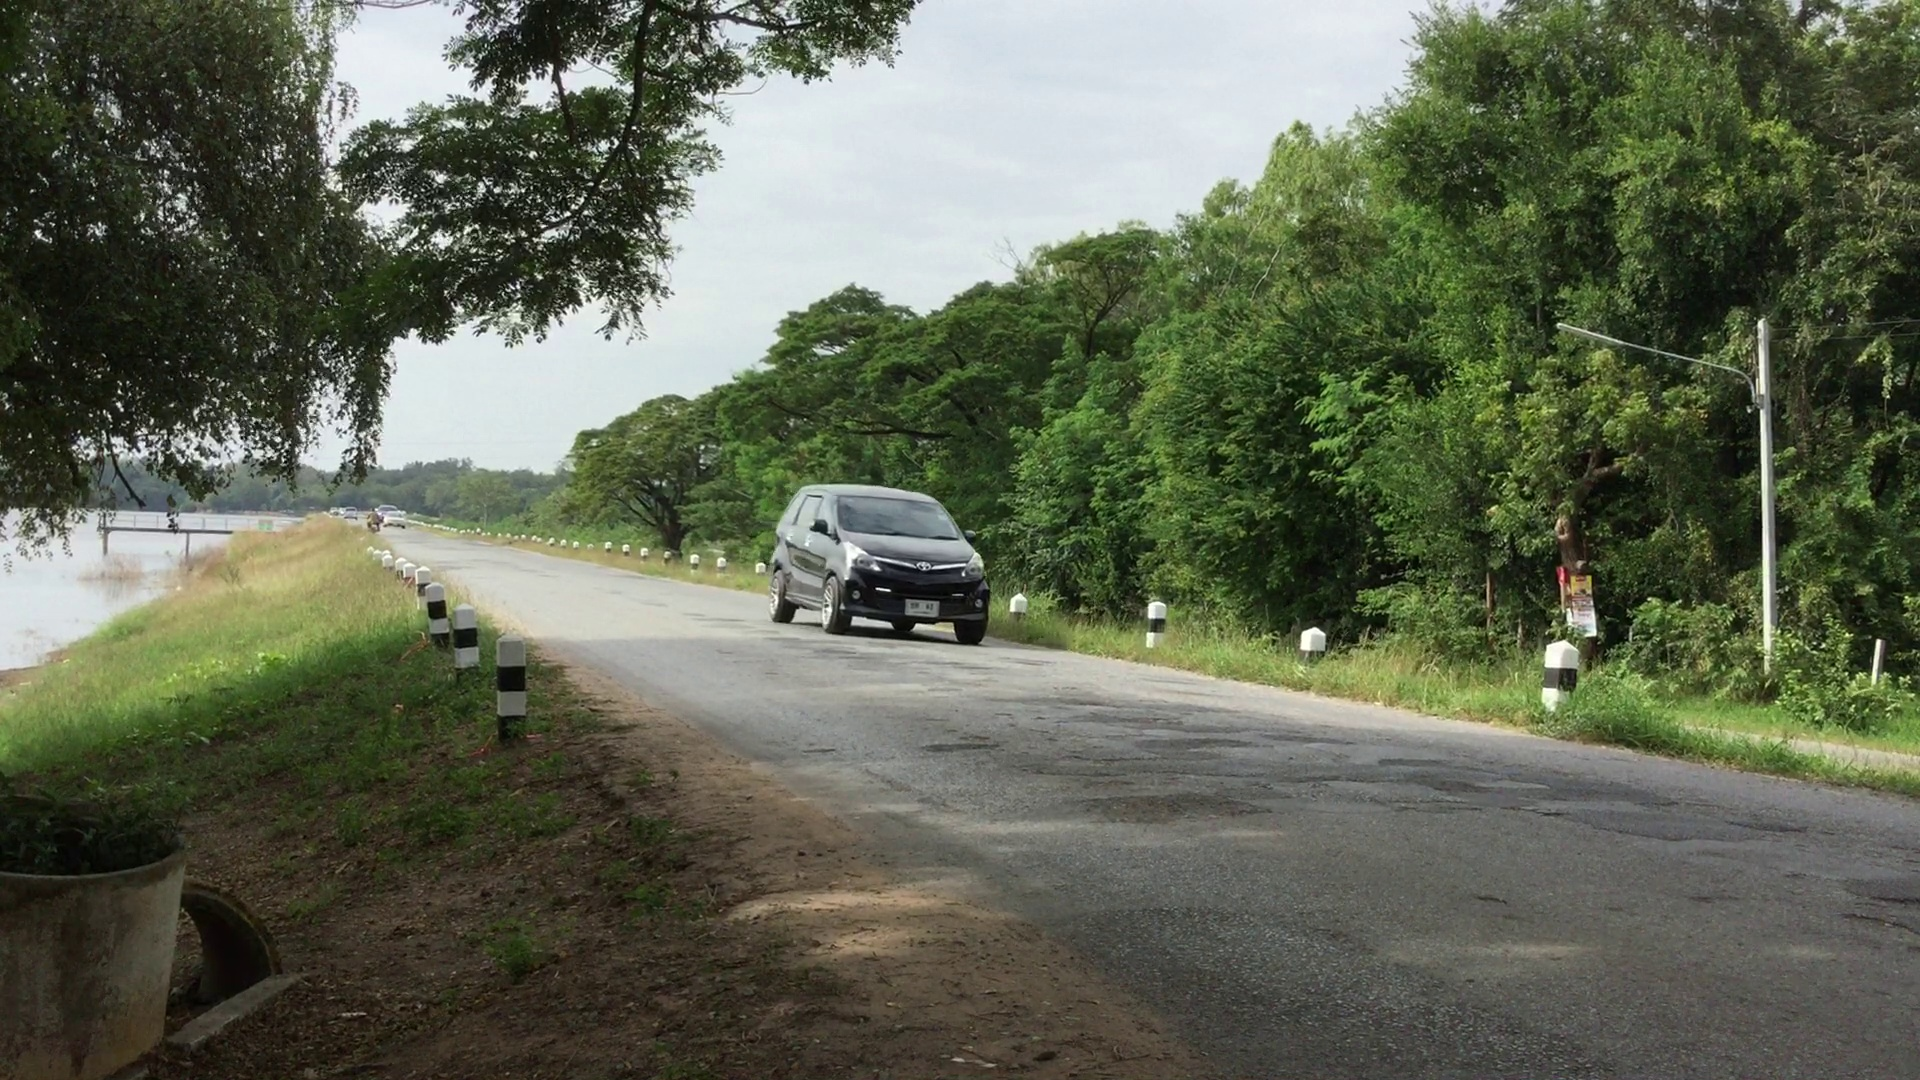car: (764, 476, 997, 651)
post: (498, 626, 530, 731), (1545, 632, 1581, 717), (448, 597, 483, 663), (1298, 620, 1332, 669), (421, 582, 448, 640), (1139, 599, 1171, 646)
